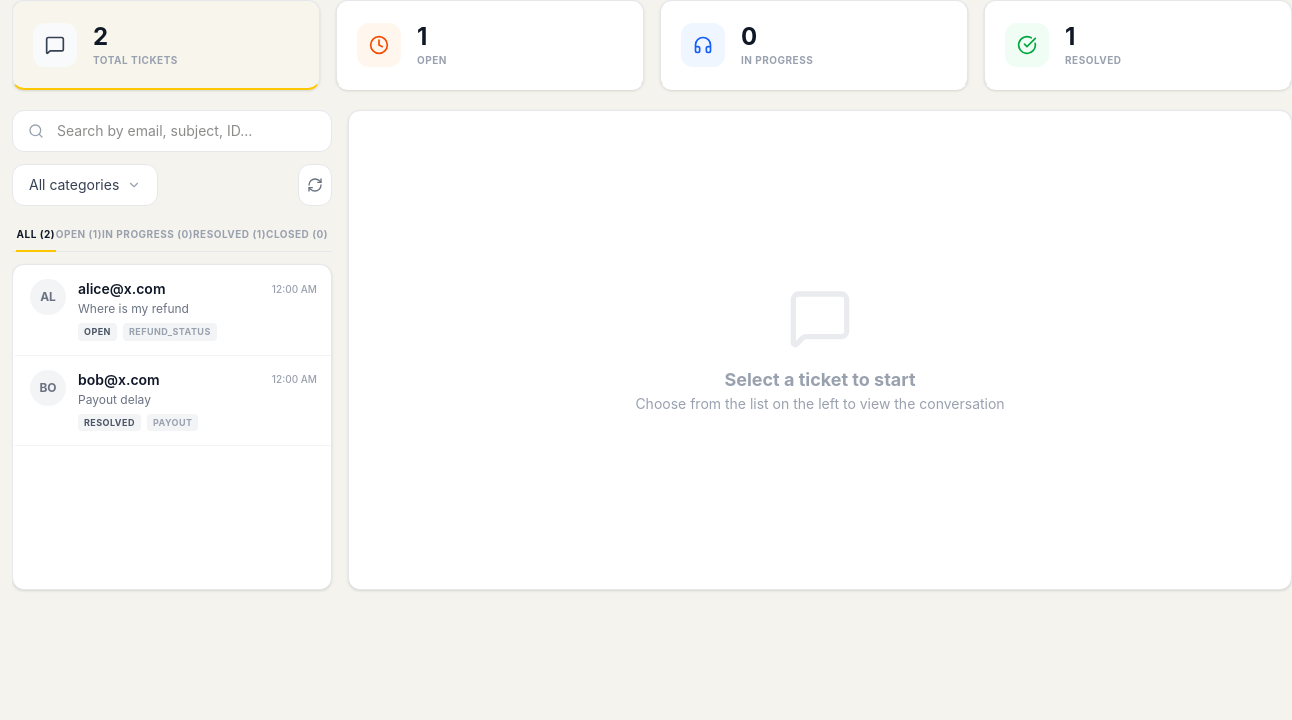
Test: SupportSystem › hides reply actions without MANAGE_ENQUIRIES
Click the heading "alice@x.com". click: (122, 289)
box: x1=78 y1=279 x2=166 y2=299
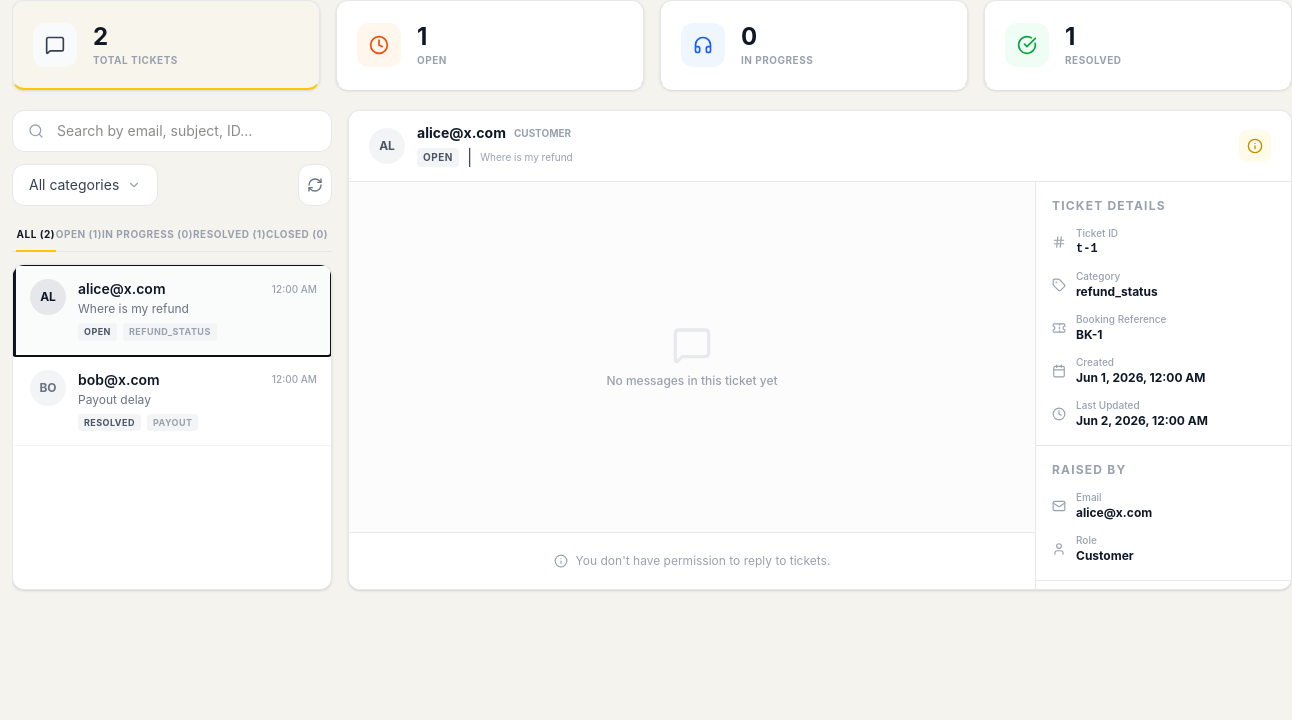
Expected: the text "You don't have permission to reply to tickets." is shown, x1=554 y1=553 x2=830 y2=568
